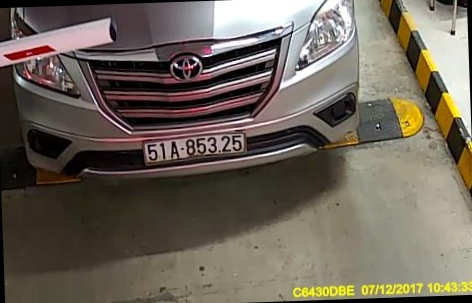plate: (140, 128, 253, 166)
